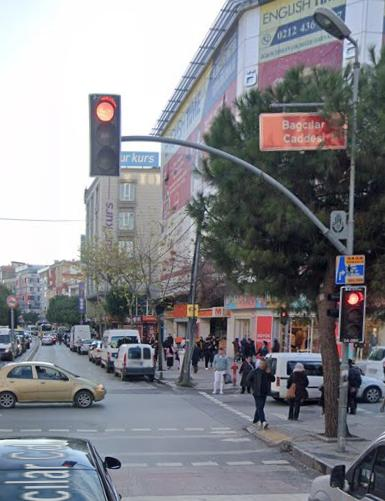redlight: (89, 93, 121, 175), (339, 286, 364, 342)
